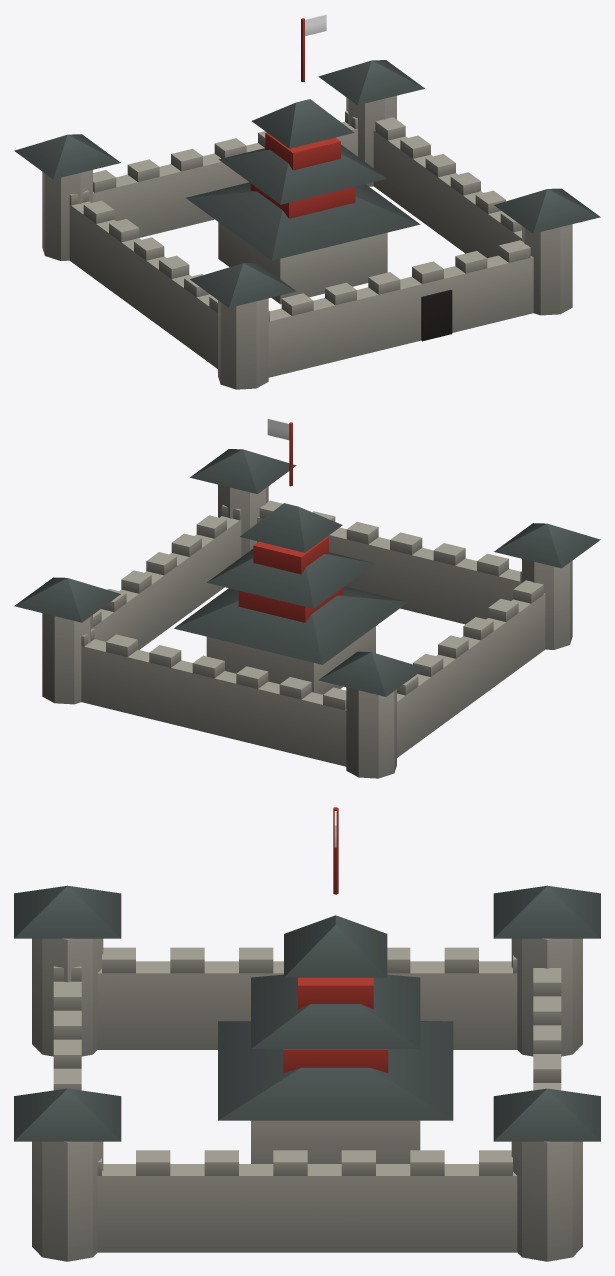
File: FORT_EA.glb
3 renders of one model, top to bottom at view 1: azimuth 30°, elevation 25°; view 2: azimuth 150°, elevation 25°; view 3: azimuth 270°, elevation 25°, orthographic. The views are drawn at different scales.
Parts seen in each view (by area): view 1: Body; view 2: Body; view 3: Body.
Part boxes in pixels (<box>): Body: <box>14,18,600,389</box>; Body: <box>14,422,600,778</box>; Body: <box>14,807,600,1261</box>.
Bounding box in the file's own units: 6.24 × 4 × 6.24.
Materials: 1 (1 with a texture image).
